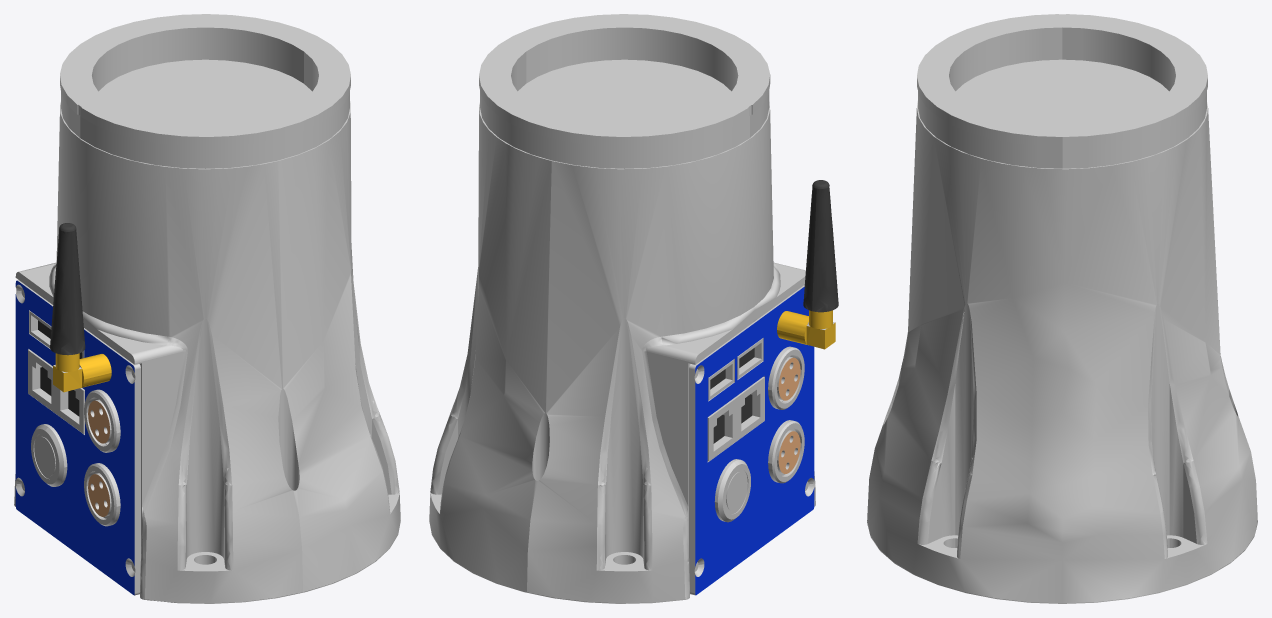
3 renders of one model, left to right at view 1: azimuth 30°, elevation 25°; view 2: azimuth 150°, elevation 25°; view 3: azimuth 270°, elevation 25°, orthographic.
Visible parts, largest first — view 1: base_link; view 2: base_link; view 3: base_link.
Part boxes in pixels (x1,y1,x2,y2): base_link: [14, 14, 400, 603]; base_link: [429, 14, 838, 603]; base_link: [867, 14, 1257, 603].
Bounding box in the file's own units: 11 × 11.43 × 13.85.
